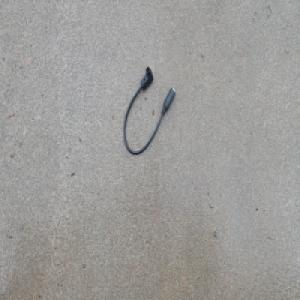Wire: (122, 65, 176, 157)
